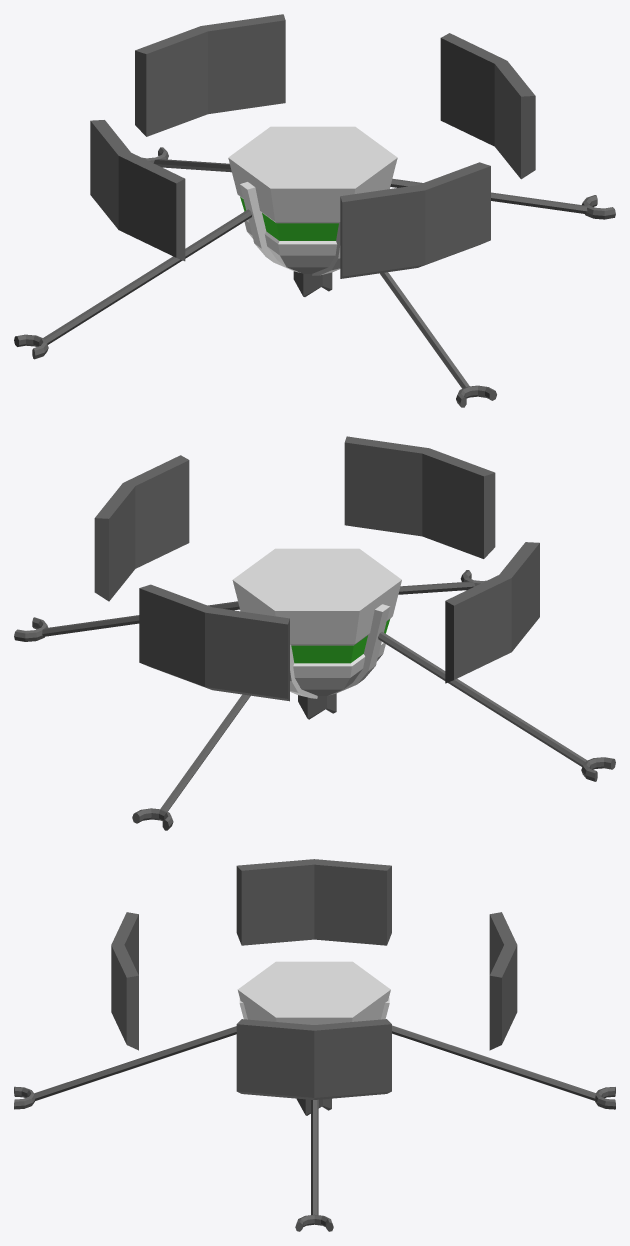
The model's file is Terraform1.fbx.
3 renders of one model, top to bottom at view 1: azimuth 30°, elevation 25°; view 2: azimuth 150°, elevation 25°; view 3: azimuth 270°, elevation 25°, orthographic. The views are drawn at different scales.
Visible parts, largest first — view 1: Terraform1; view 2: Terraform1; view 3: Terraform1.
Boxes of the visible parts, x1,y1,x2,y2 form: Terraform1: [14, 14, 615, 407]; Terraform1: [14, 436, 615, 830]; Terraform1: [14, 859, 615, 1231].
Bounding box in the file's own units: 326 × 98.44 × 324.
